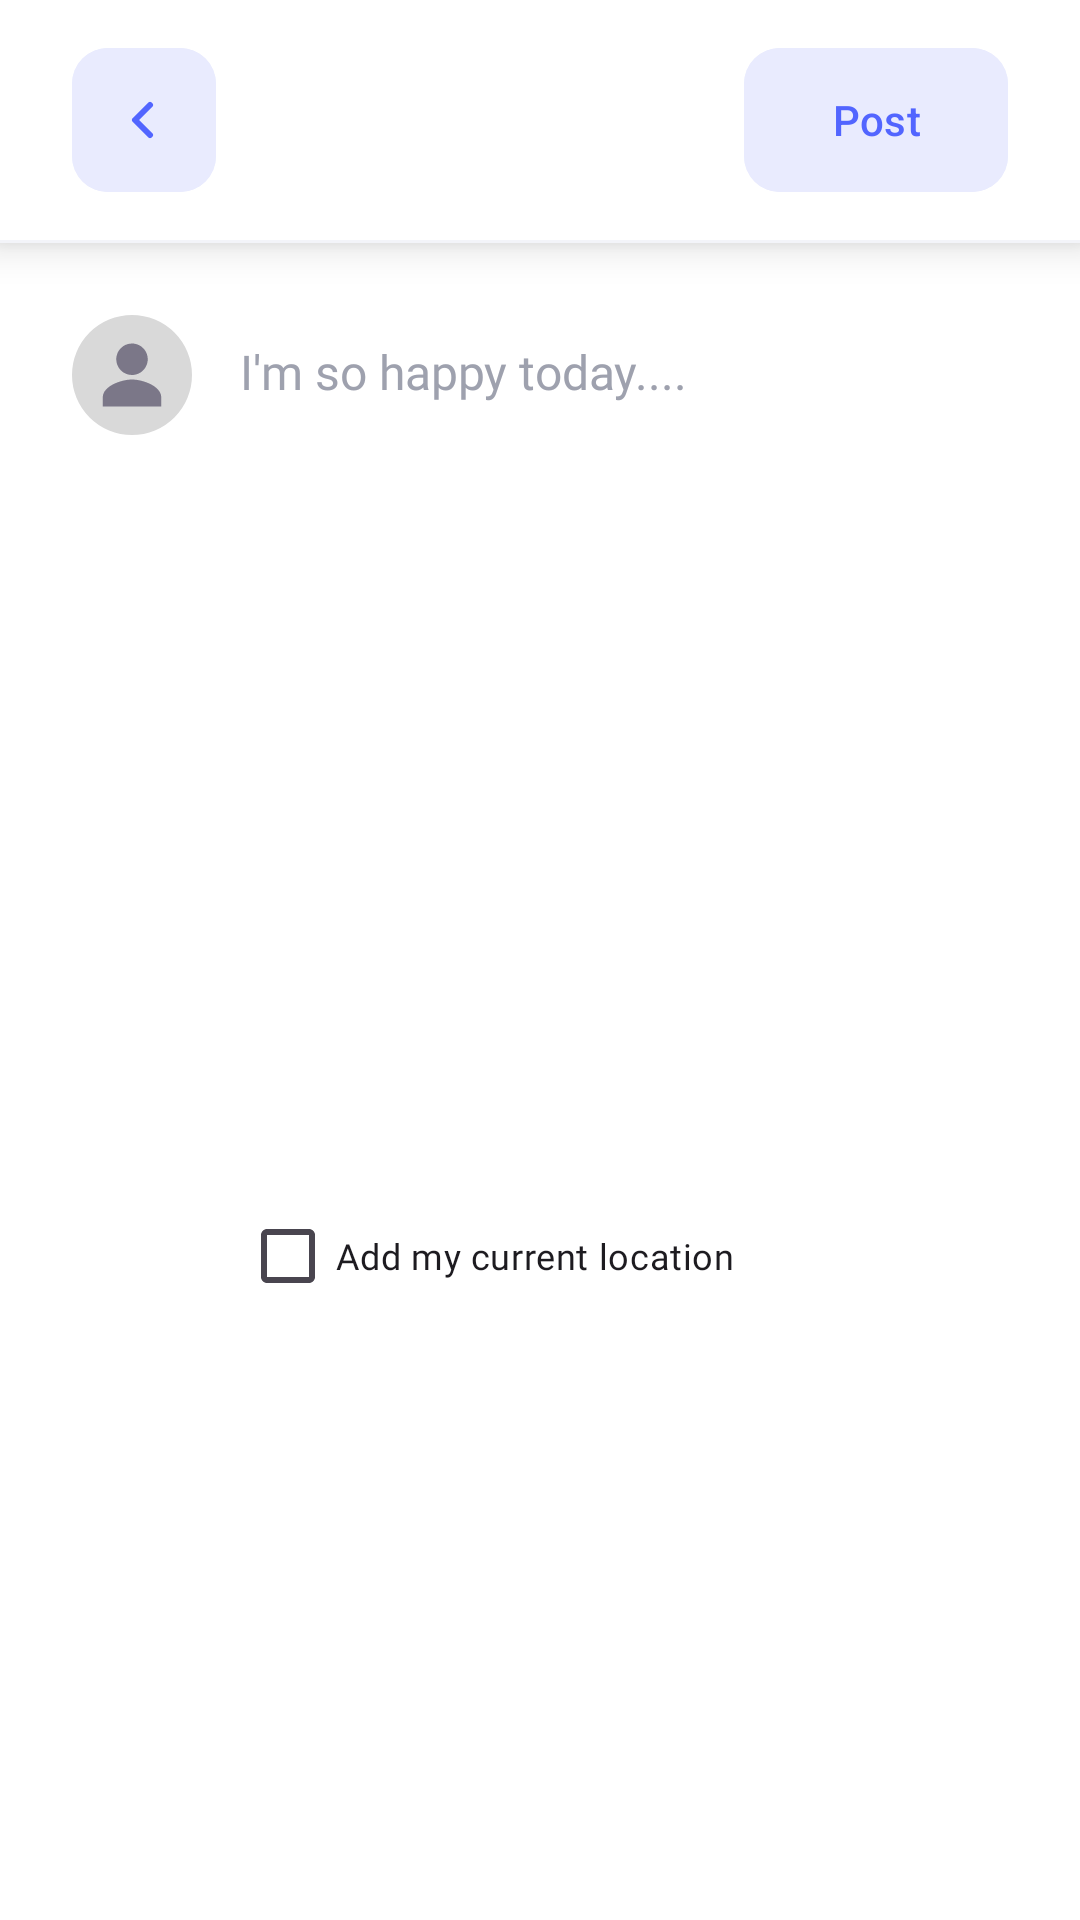

Icon click points for this 1080×1920 phone screenshot, format (x=x, y=y):
arrow left: (x=144, y=120)
profile: (x=132, y=375)
